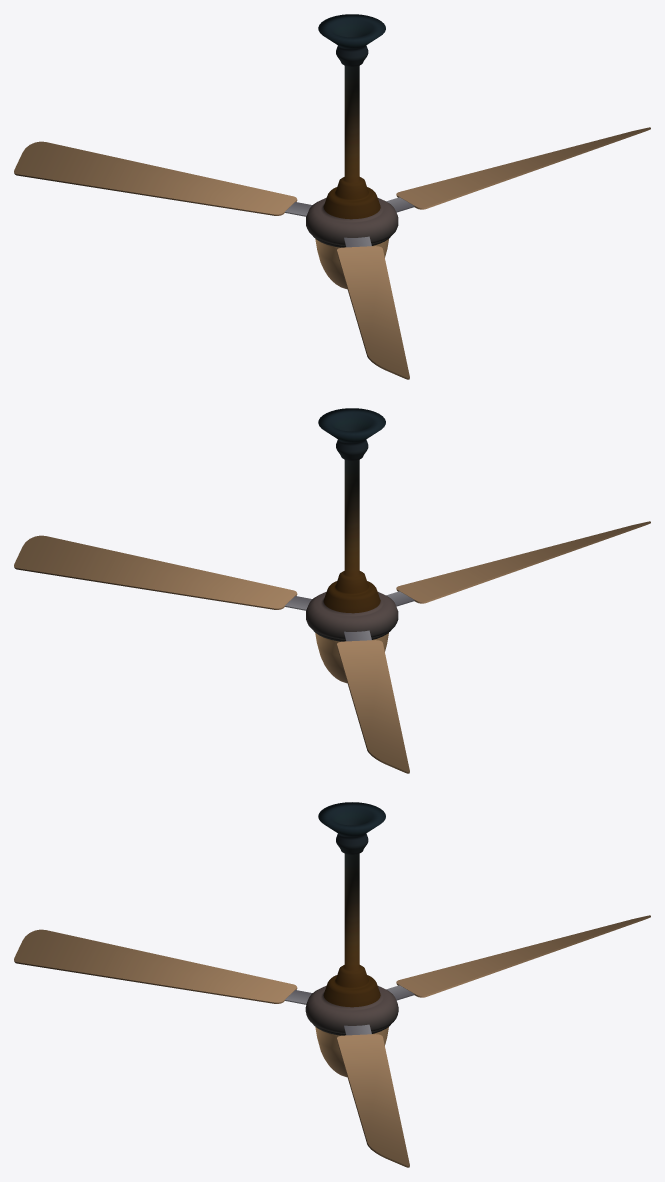
File: CeilingFan.fbx
The picture shows the model from 3 angles, top to bottom: view 1: azimuth 30°, elevation 25°; view 2: azimuth 150°, elevation 25°; view 3: azimuth 270°, elevation 25°; orthographic projection.
Parts seen in each view (by area): view 1: ceilingFan, Plane.002, Plane.003, Plane.001; view 2: ceilingFan, Plane.001, Plane.002, Plane.003; view 3: ceilingFan, Plane.003, Plane.001, Plane.002.
Boxes of the visible parts, left/top/right/bottom form: ceilingFan: left=306, top=14, right=398, bottom=289; Plane.002: left=14, top=141, right=312, bottom=216; Plane.003: left=336, top=236, right=409, bottom=379; Plane.001: left=386, top=127, right=650, bottom=212; ceilingFan: left=306, top=408, right=398, bottom=683; Plane.001: left=14, top=535, right=312, bottom=610; Plane.002: left=336, top=630, right=409, bottom=773; Plane.003: left=386, top=521, right=650, bottom=606; ceilingFan: left=305, top=802, right=398, bottom=1077; Plane.003: left=14, top=929, right=312, bottom=1004; Plane.001: left=336, top=1024, right=409, bottom=1167; Plane.002: left=386, top=915, right=650, bottom=1000.
Size of the model in its own units: 3111 by 1507 by 3364.
Materials: 1 (1 with a texture image).
